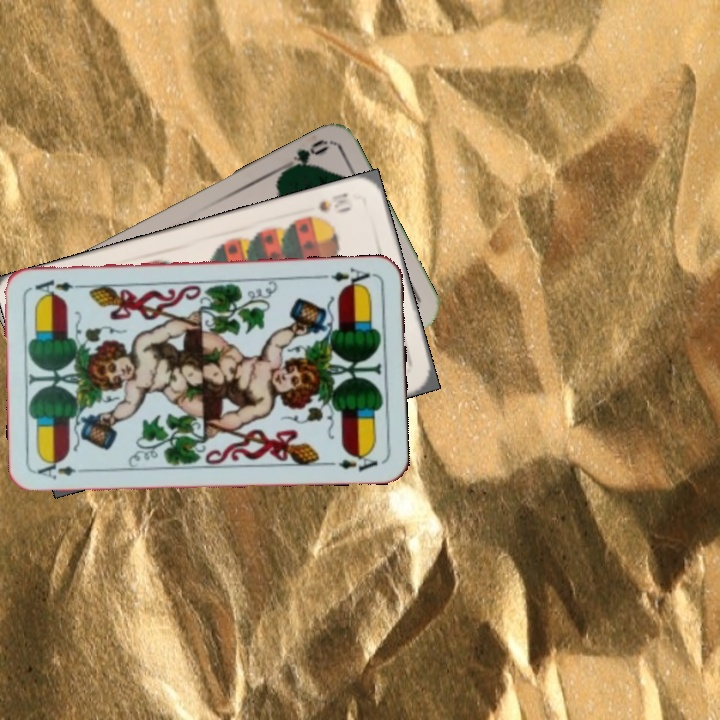EA: (33, 457, 92, 482), (327, 263, 377, 290)
GO: (276, 135, 332, 175)
S10: (315, 188, 353, 215)
